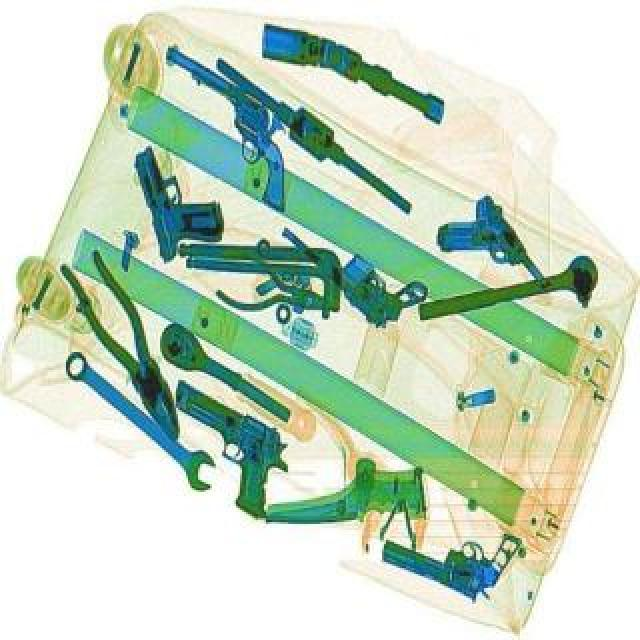gun: (120, 46, 332, 210), (132, 376, 308, 516), (278, 186, 434, 334), (376, 490, 524, 602), (424, 192, 552, 318), (128, 132, 228, 260)
scissors: (50, 344, 226, 492)
wrench: (56, 242, 200, 446), (208, 240, 340, 334)
